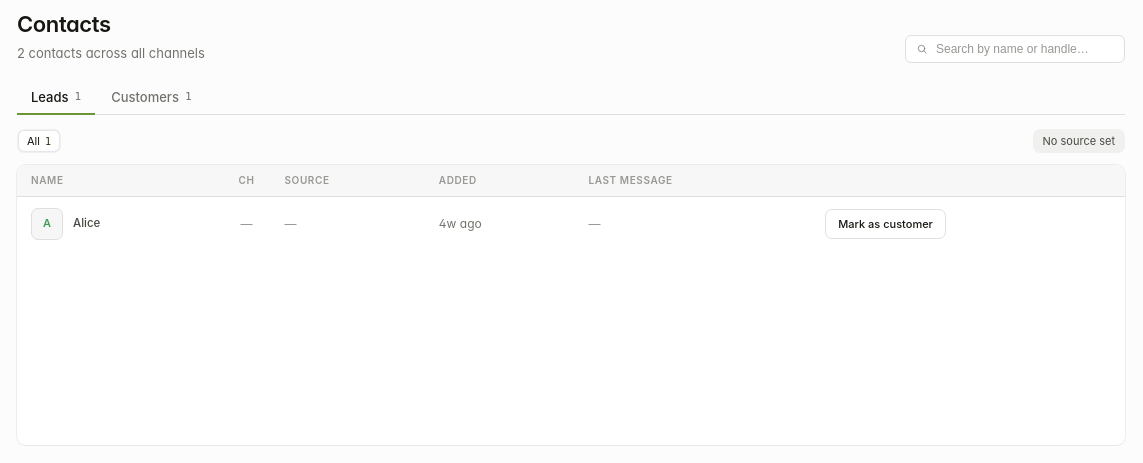
Test: ContactsListView › switches to the Customers tab on click
The image size is (1143, 463).
Click the tab "Customers 1": [151, 98] box [97,81,206,115]
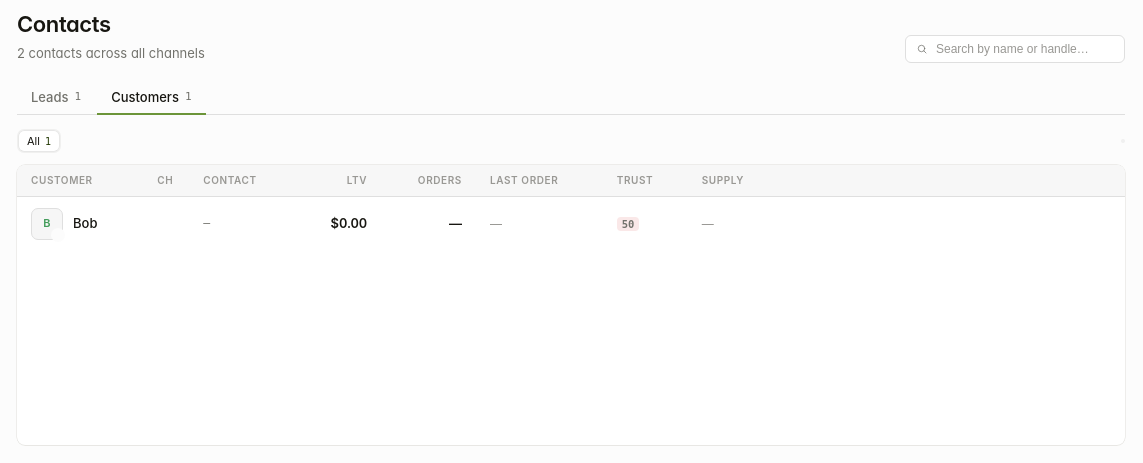
Now the text "Bob" is shown, box [73,214,97,233]
Now the link "Alice" is gone
